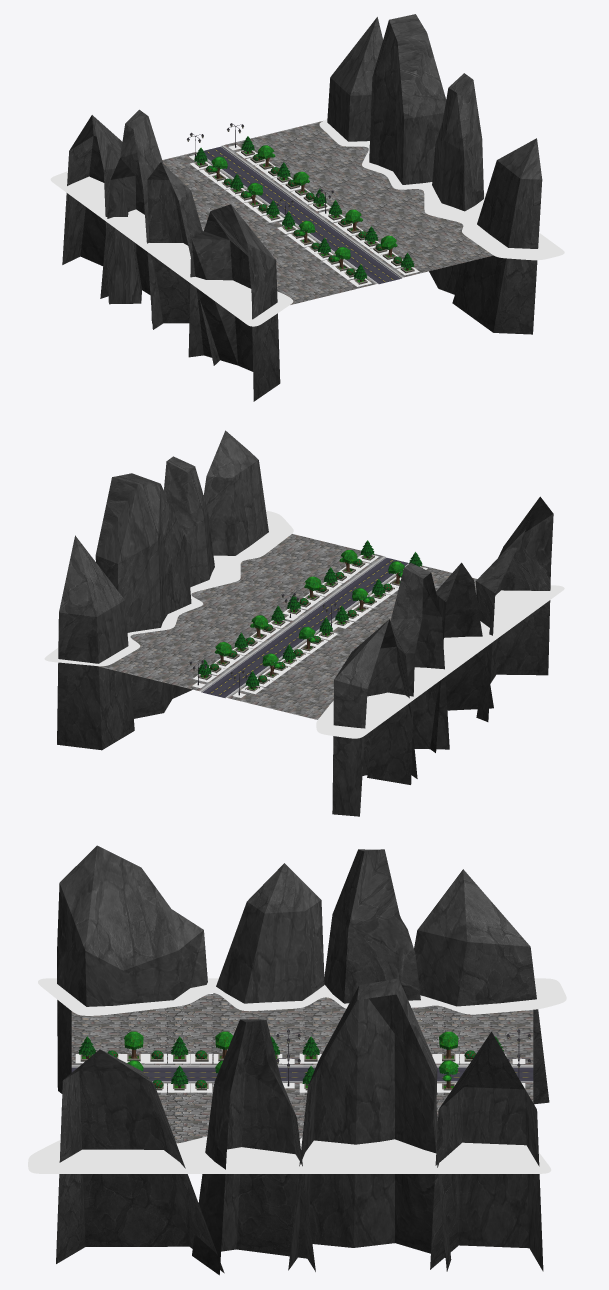
Rendered from City_06.fbx.
The picture shows the model from 3 angles, top to bottom: view 1: azimuth 30°, elevation 25°; view 2: azimuth 150°, elevation 25°; view 3: azimuth 270°, elevation 25°; orthographic projection. The views are drawn at different scales.
Parts seen in each view (by area): view 1: City_06; view 2: City_06; view 3: City_06.
Part boxes in pixels (bbox=[...]): City_06: bbox=[50, 14, 564, 401]; City_06: bbox=[44, 430, 564, 816]; City_06: bbox=[28, 845, 566, 1275].
Size of the model in its own units: 22617 by 13384 by 25170.
8 materials, 8 textured.
